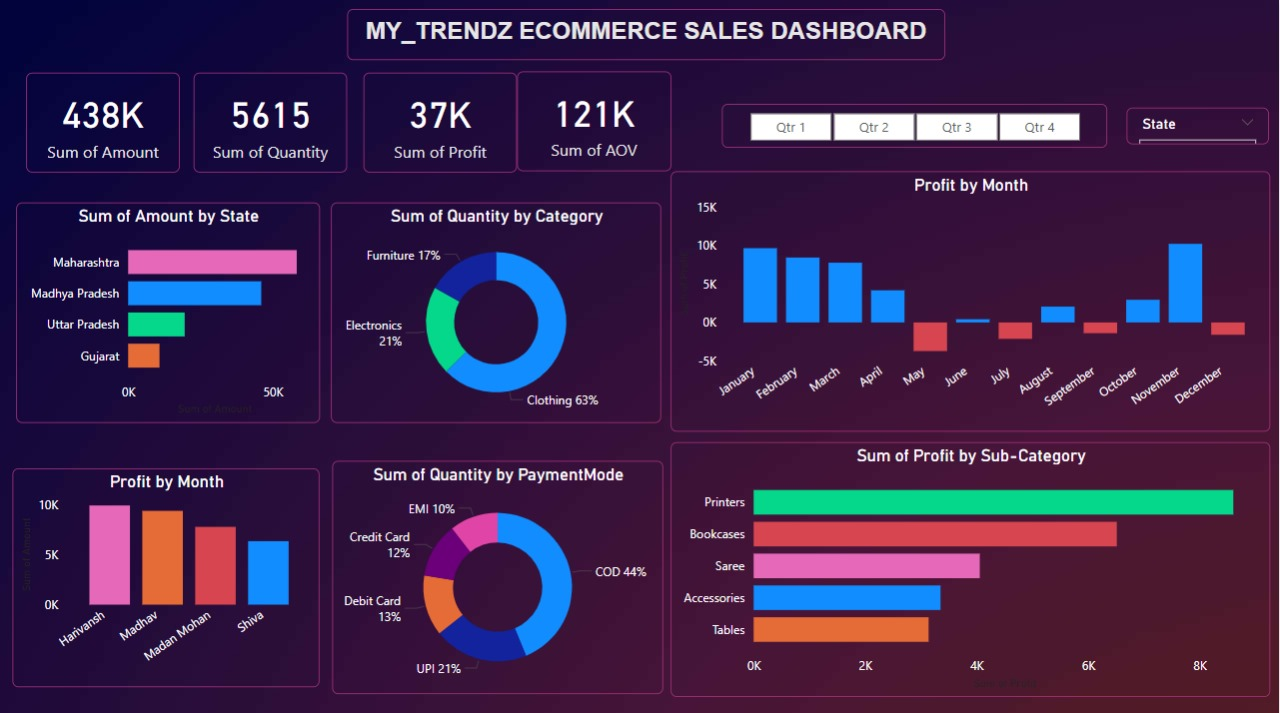

The dashboard page shown, as its layout file describes it:
{"tool":"powerbi","page":{"name":"Page 1","canvas":[1280,720],"ordinal":0},"visuals":[{"type":"textbox","box":[347.3,9.5,598.6,51.4],"z":0},{"type":"columnChart","title":"Profit by Month","fields":{"Y":["Details.Profit"],"Category":["Orders.Order Date.Variation.Date Hierarchy.Month"]},"box":[671.6,173,600,260.8],"z":1},{"type":"barChart","fields":{"Category":["Details.Sub-Category"],"Y":["Details.Profit"]},"box":[671.6,443.2,600,255.4],"z":2},{"type":"donutChart","fields":{"Category":["Details.Category"],"Y":["Details.Quantity"]},"box":[331.7,203.7,330.5,220.7],"z":3},{"type":"donutChart","fields":{"Y":["Details.Quantity"],"Category":["Details.PaymentMode"]},"box":[332.4,462.2,331.1,233.8],"z":4},{"type":"card","fields":{"Values":["Details.Amount"]},"box":[26.8,73.2,153.7,100],"z":5},{"type":"card","fields":{"Values":["Details.Quantity"]},"box":[193.9,73.2,153.7,100],"z":6},{"type":"card","fields":{"Values":["Details.Profit"]},"box":[363.4,73.2,153.7,100],"z":7},{"type":"card","fields":{"Values":["Details.AOV"]},"box":[517.6,73,154.1,100],"z":8},{"type":"barChart","fields":{"Category":["Orders.State"],"Y":["Details.Amount"]},"box":[15.9,203.7,303.7,220.7],"z":9},{"type":"columnChart","title":"Profit by Month","fields":{"Category":["Orders.CustomerName"],"Y":["Details.Amount"]},"box":[12.2,469.5,307.3,219.5],"z":10},{"type":"slicer","fields":{"Values":["Orders.Order Date.Variation.Date Hierarchy.Quarter"]},"box":[722,104.9,385.4,43.9],"z":11},{"type":"slicer","fields":{"Values":["Orders.State"]},"box":[1128,108.5,142.7,36.6],"z":12}]}

Visuals, with their boxes in screenshot pixels (x1, y1, x2, y2), scaled from the page's 1280x720 canvas onto the 1280x713 screenshot:
textbox: rect(347, 9, 946, 60)
"Profit by Month" columnChart: rect(672, 171, 1272, 430)
barChart - Details.Sub-Category x Details.Profit: rect(672, 439, 1272, 692)
donutChart - Details.Category x Details.Quantity: rect(332, 202, 662, 420)
donutChart - Details.Quantity x Details.PaymentMode: rect(332, 458, 664, 689)
card - Details.Amount: rect(27, 72, 180, 172)
card - Details.Quantity: rect(194, 72, 348, 172)
card - Details.Profit: rect(363, 72, 517, 172)
card - Details.AOV: rect(518, 72, 672, 171)
barChart - Orders.State x Details.Amount: rect(16, 202, 320, 420)
"Profit by Month" columnChart: rect(12, 465, 320, 682)
slicer - Orders.Order Date.Variation.Date Hierarchy.Quarter: rect(722, 104, 1107, 147)
slicer - Orders.State: rect(1128, 107, 1271, 144)
